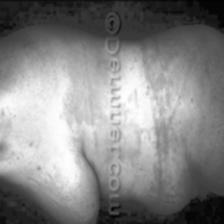Toxin: (146, 104, 180, 174)
